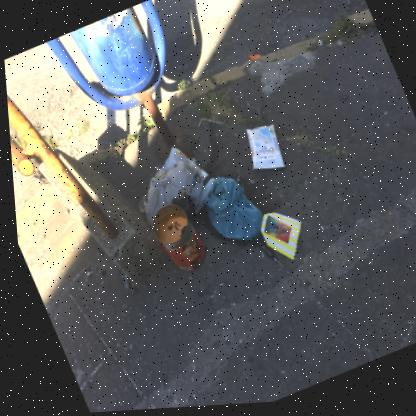Metal: (149, 207, 201, 273)
Paper: (257, 216, 298, 263), (244, 127, 282, 172)
Plastic: (142, 163, 200, 230), (200, 179, 260, 243), (156, 149, 191, 174), (192, 171, 211, 216), (196, 121, 221, 129), (247, 57, 260, 63)
